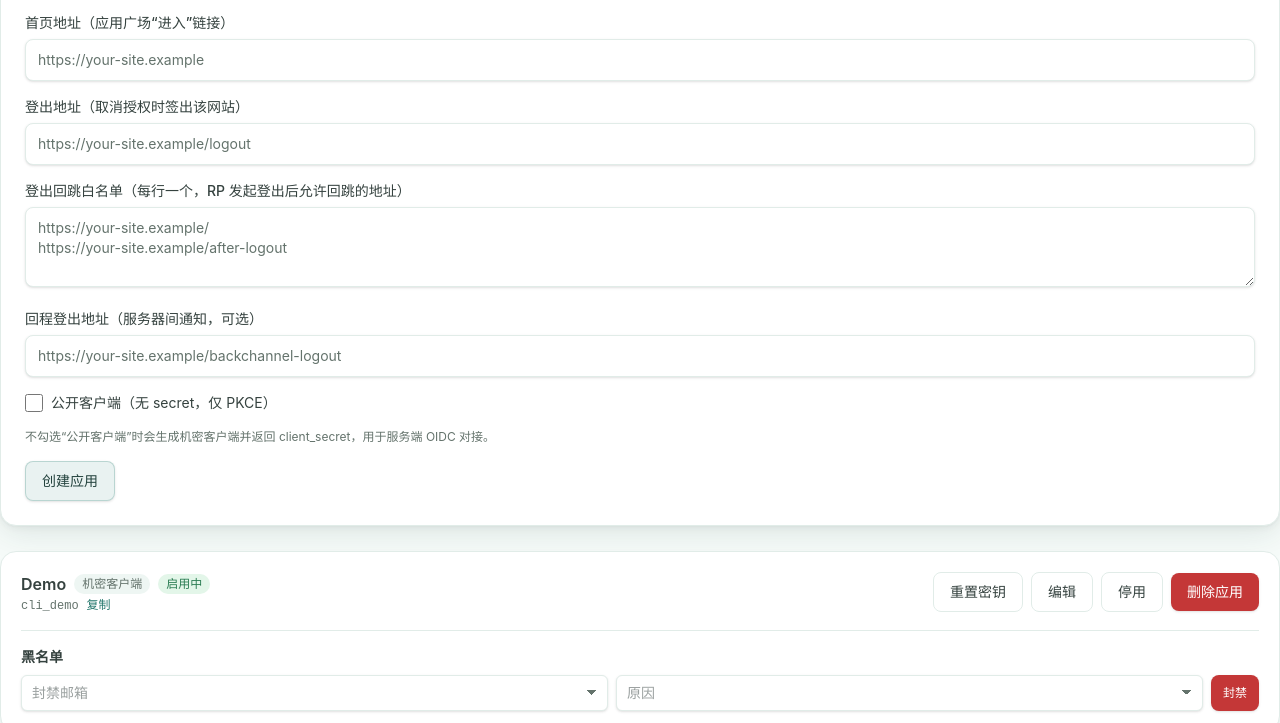
Test: AdminClientsPage › 编辑应用并保存修改
(page scrolled)
Expected: the text "Demo" is shown, left=21, top=574, right=66, bottom=594
Click the button "编辑". click: click(1062, 592)
box: left=1031, top=572, right=1093, bottom=612
(page scrolled)
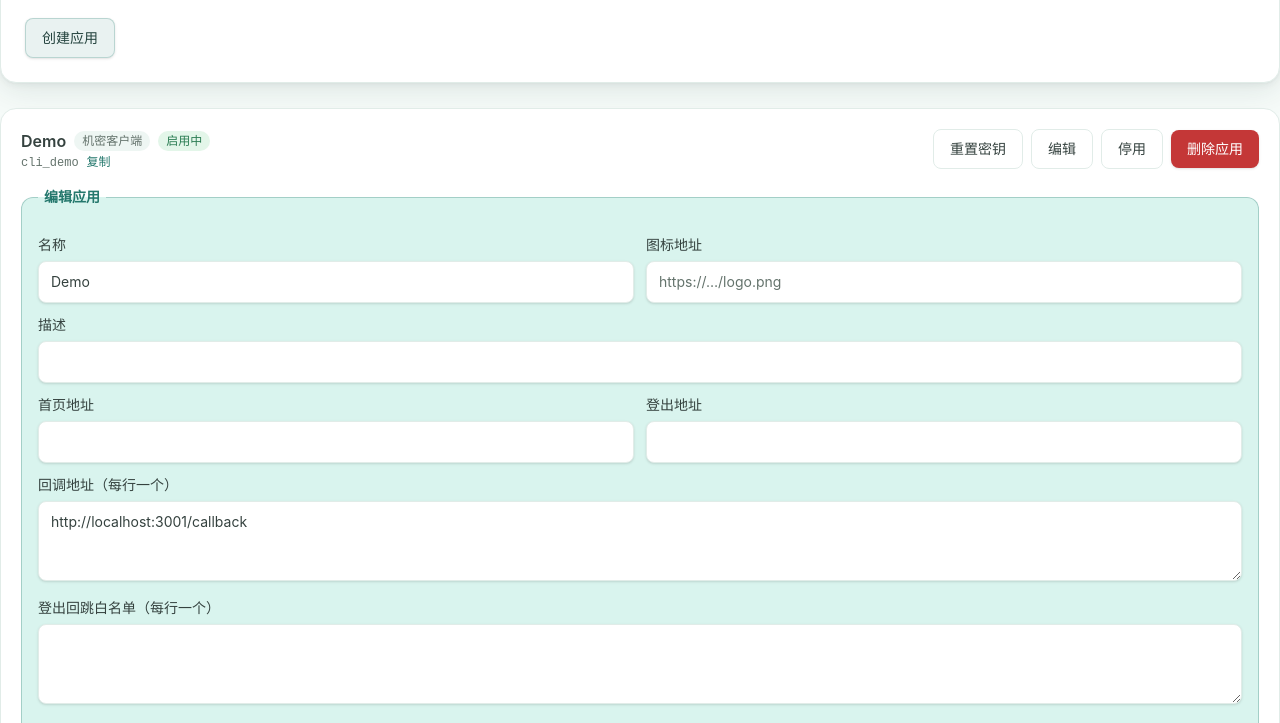
Replace the text in the field labelled "名称" with "Demo 2". click: (336, 282)
box: left=38, top=261, right=634, bottom=303
(page scrolled)
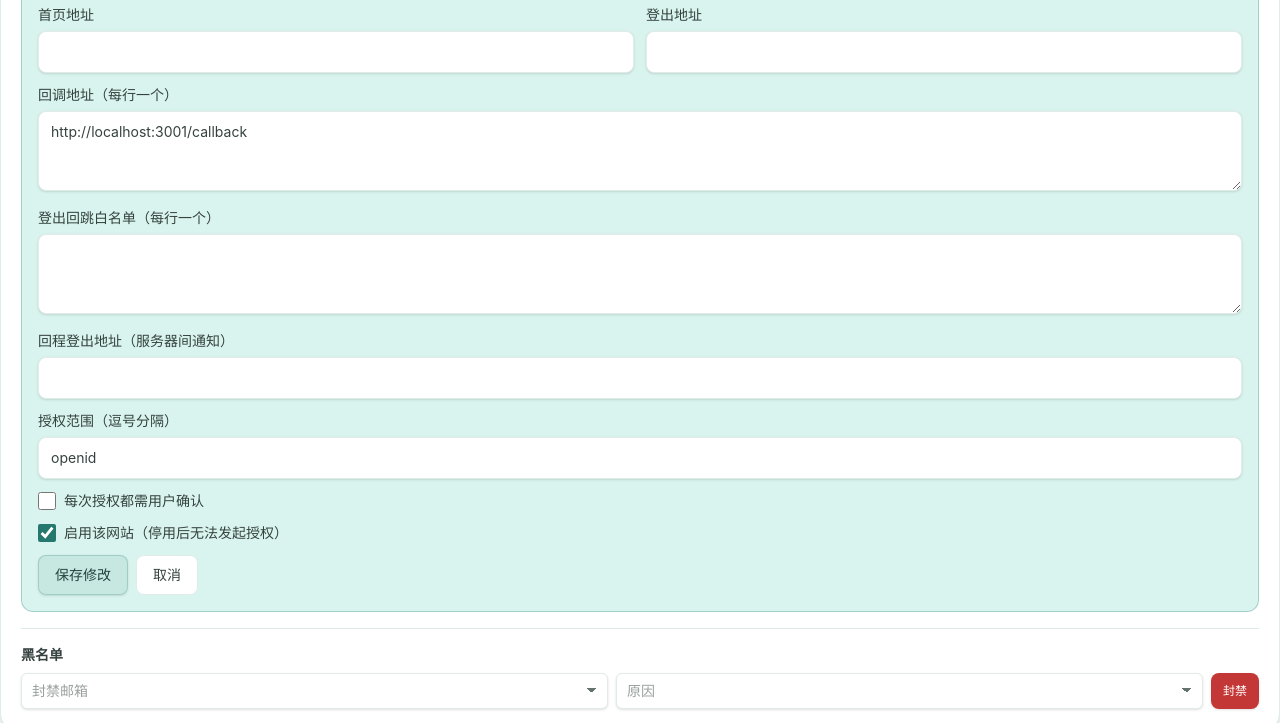
Click the checkbox labelled "启用该网站（停用后无法发起授权）". click: click(47, 533)
box: left=38, top=524, right=56, bottom=542
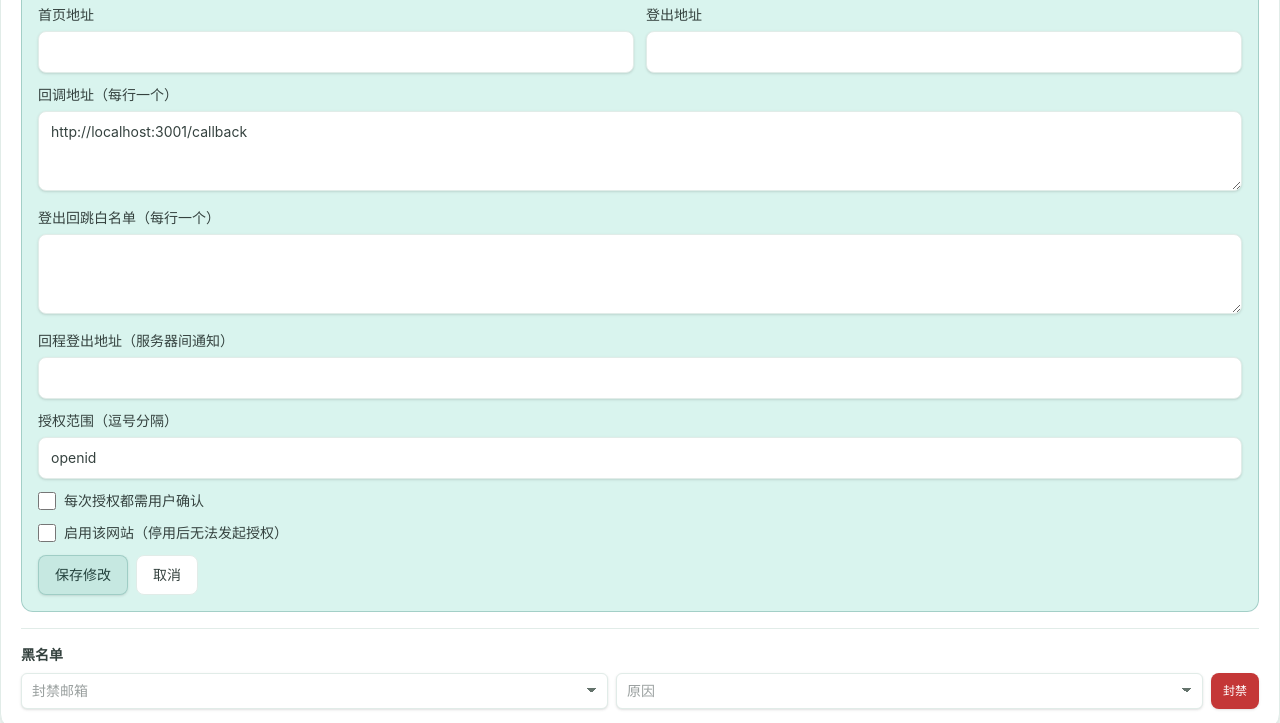
Click the button "保存修改". click: click(83, 575)
box: left=38, top=555, right=128, bottom=595
(page scrolled)
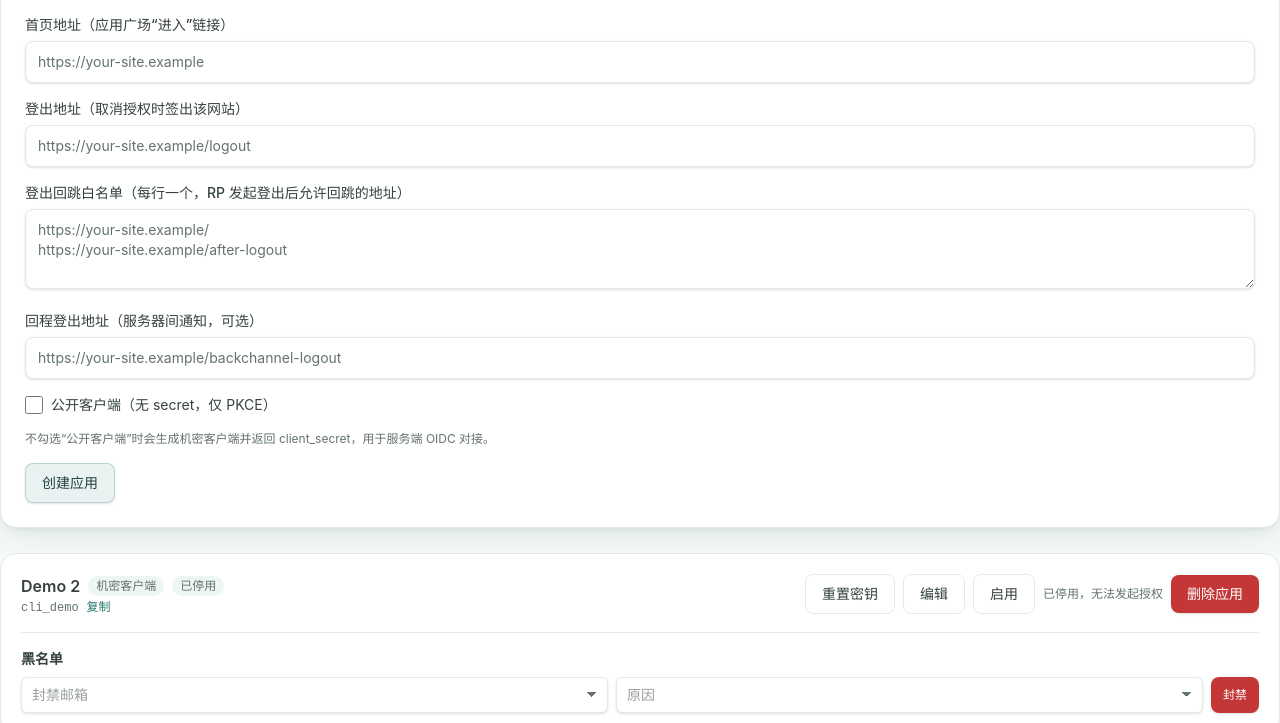
Expected: the text "Demo 2" is shown, left=21, top=576, right=80, bottom=596
